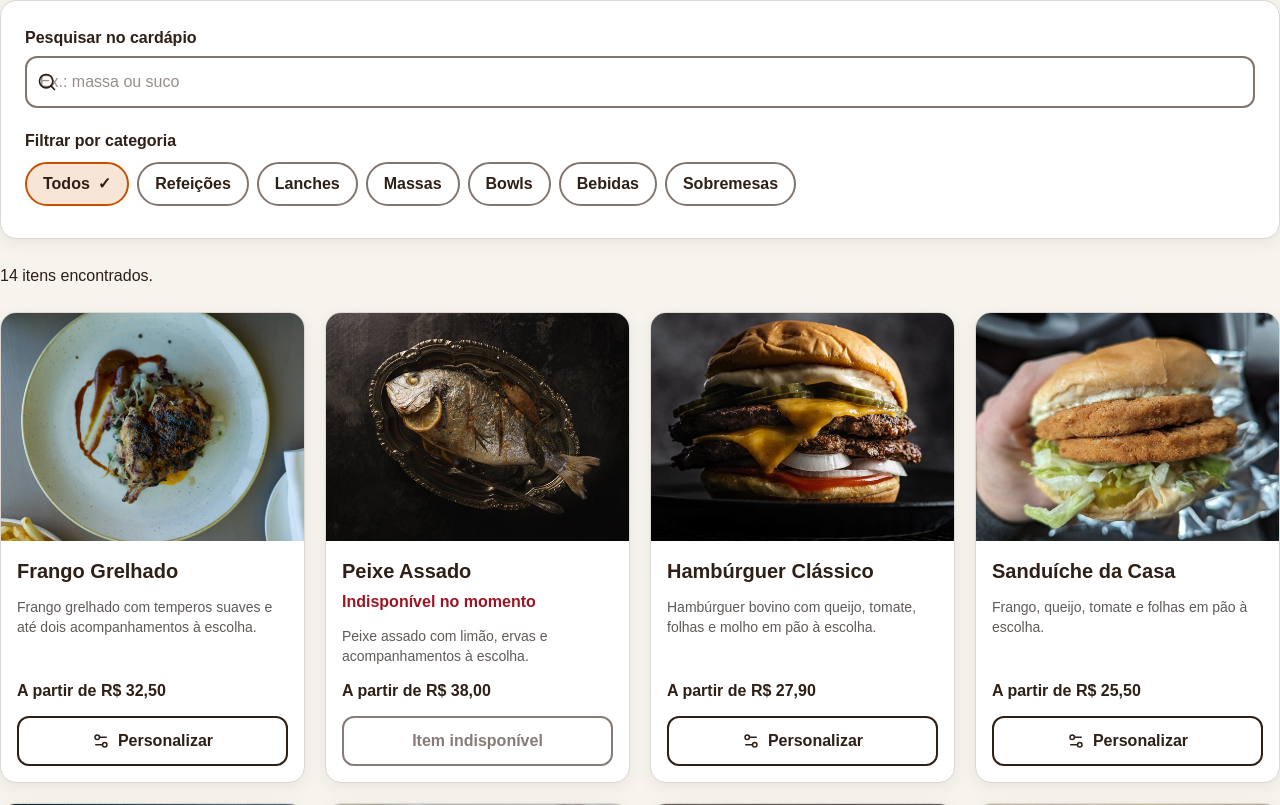
Test: MenuBrowser › filtra itens por categoria
Click the radio button labelled "Massas": (413, 184) [366, 162, 460, 206]
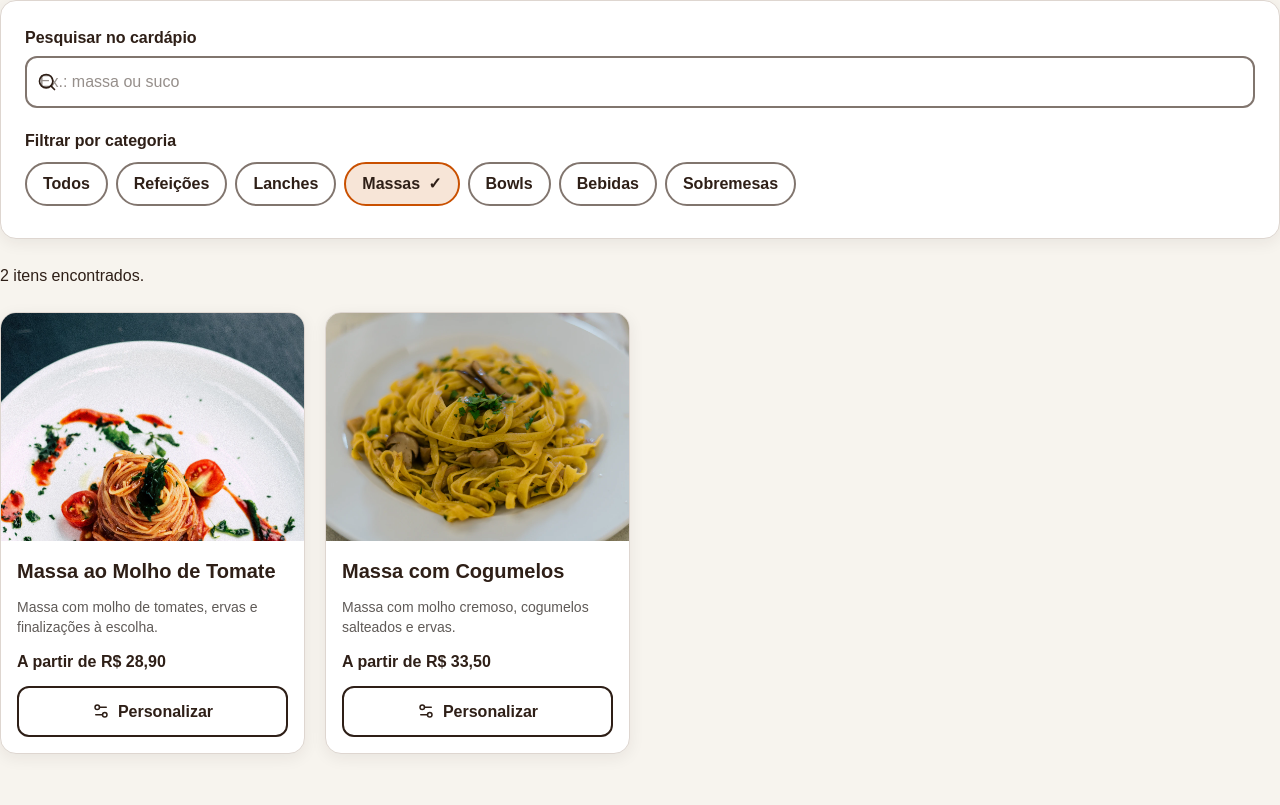
Expected: the heading "Massa ao Molho de Tomate" is shown, [17, 557, 288, 585]
Expected: the heading "Hambúrguer Clássico" is gone
